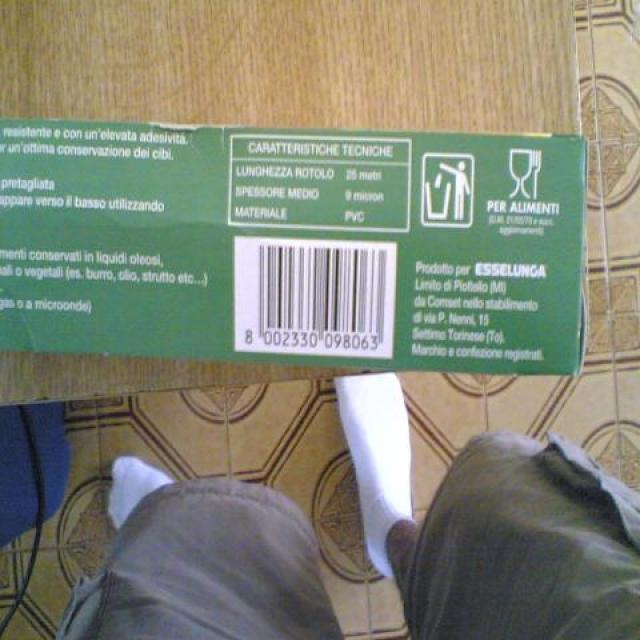Barcode: (234, 236, 397, 355)
